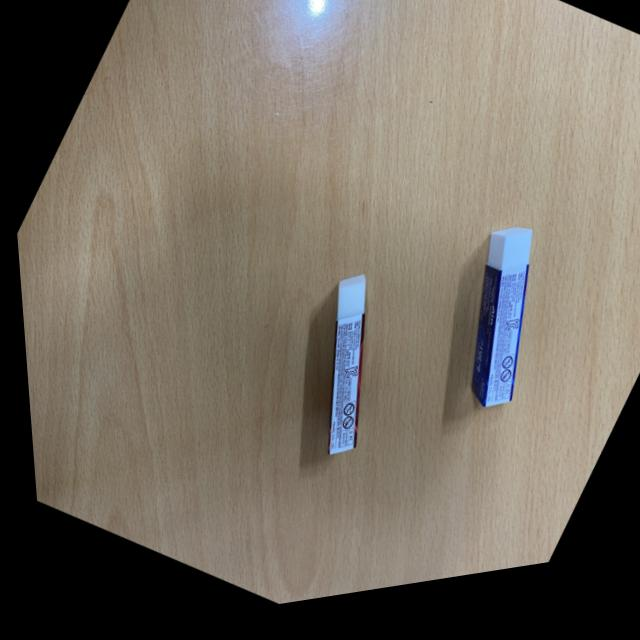blue: (404, 223, 586, 441)
red: (244, 262, 431, 489)
